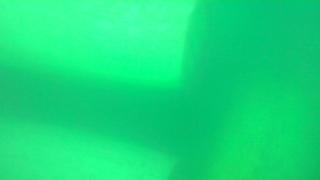pipe: (1, 1, 212, 90), (203, 69, 320, 178), (1, 116, 191, 180)
